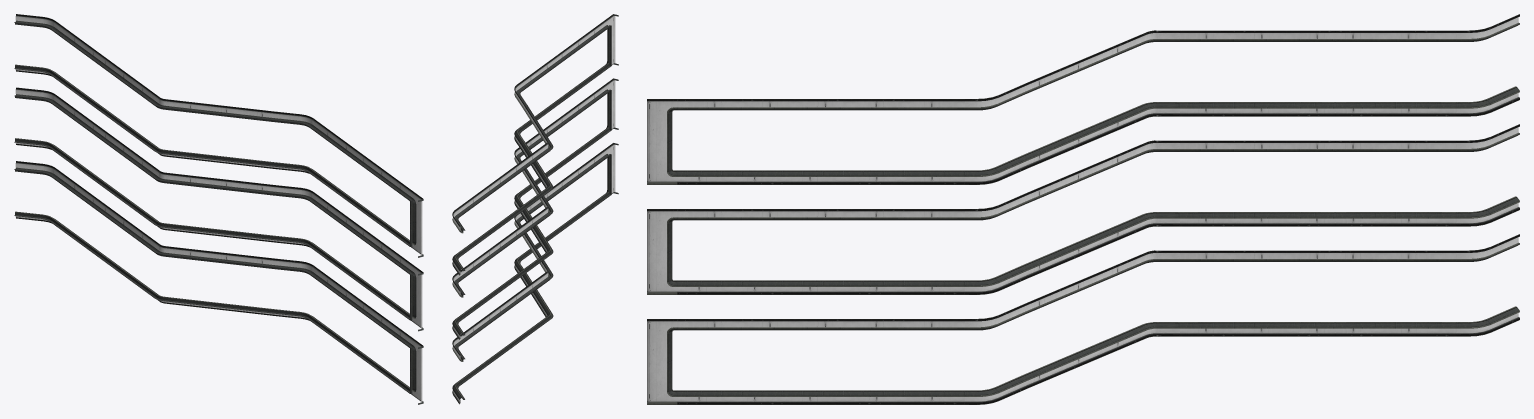
File: HubFAC_Win02_Low.FBX
3 renders of one model, left to right at view 1: azimuth 30°, elevation 25°; view 2: azimuth 150°, elevation 25°; view 3: azimuth 270°, elevation 25°, orthographic. The views are drawn at different scales.
Parts seen in each view (by area): view 1: HubFAC_Win02_Low; view 2: HubFAC_Win02_Low; view 3: HubFAC_Win02_Low.
Part boxes in pixels (box(x1,y1,x2,y2)): HubFAC_Win02_Low: box(14, 14, 423, 404); HubFAC_Win02_Low: box(452, 14, 618, 404); HubFAC_Win02_Low: box(647, 14, 1519, 404).
Bounding box in the file's own units: 10.28 × 16.7 × 43.15.
